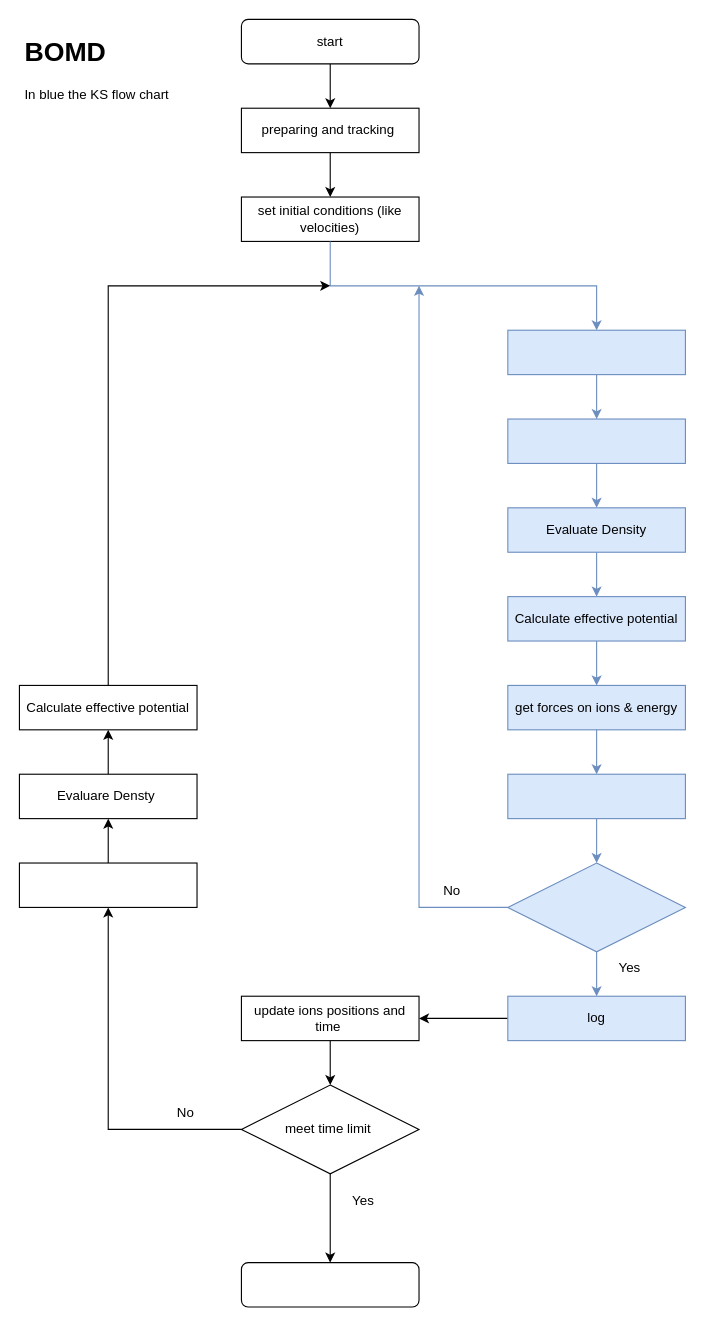
The diagram is 705 pixels wide and 1326 high, and some of its shapes have lost their labels. The centre of each missing label's shape, as x and y in pixels:
"Is self-consistent" goes at point (596, 907).
"Mix potential" goes at point (596, 796).
"Occupation: Fermi level" goes at point (596, 440).
"Output data" goes at point (329, 1284).
"predict the wave function" goes at point (107, 884).
"Solve KS equations" goes at point (596, 352).
